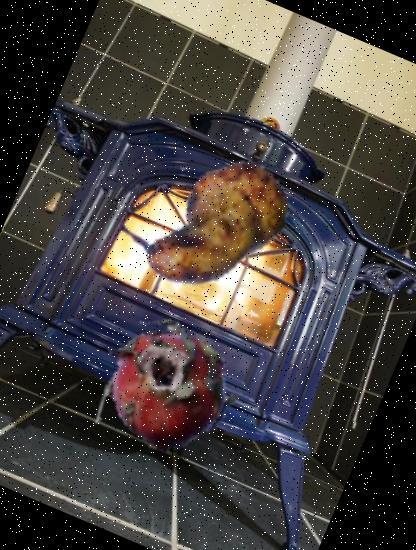Pear: (108, 121, 306, 318)
Pitahaya: (75, 295, 261, 480)
